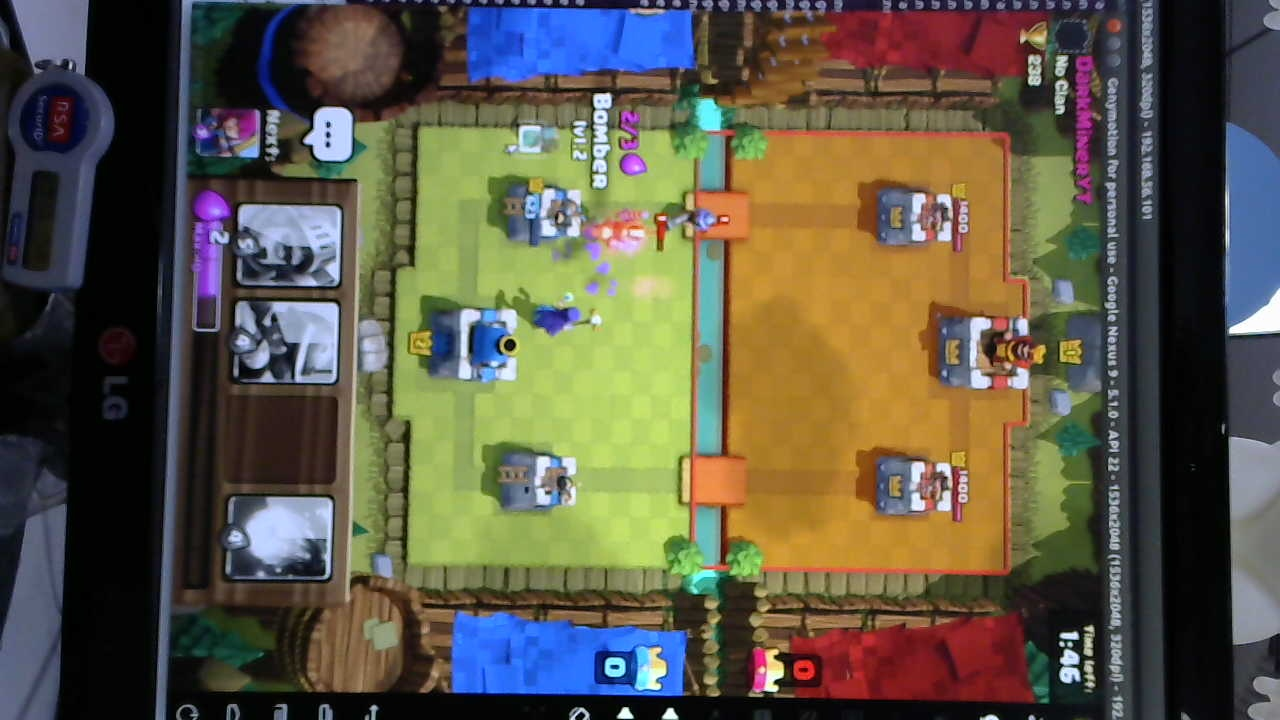arena: (494, 446, 581, 515), (499, 182, 589, 245)
earena: (872, 187, 956, 249), (875, 455, 952, 521)
eking: (932, 316, 1044, 392)
king: (427, 310, 521, 383)
musketeer: (667, 207, 725, 233)
prince: (584, 206, 653, 253)
witch: (529, 301, 603, 343)
